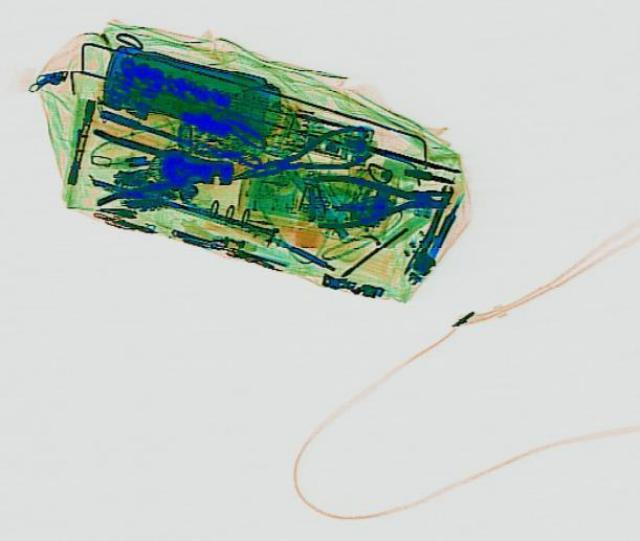Pliers: (83, 127, 233, 211), (223, 119, 377, 194), (310, 173, 448, 226)
